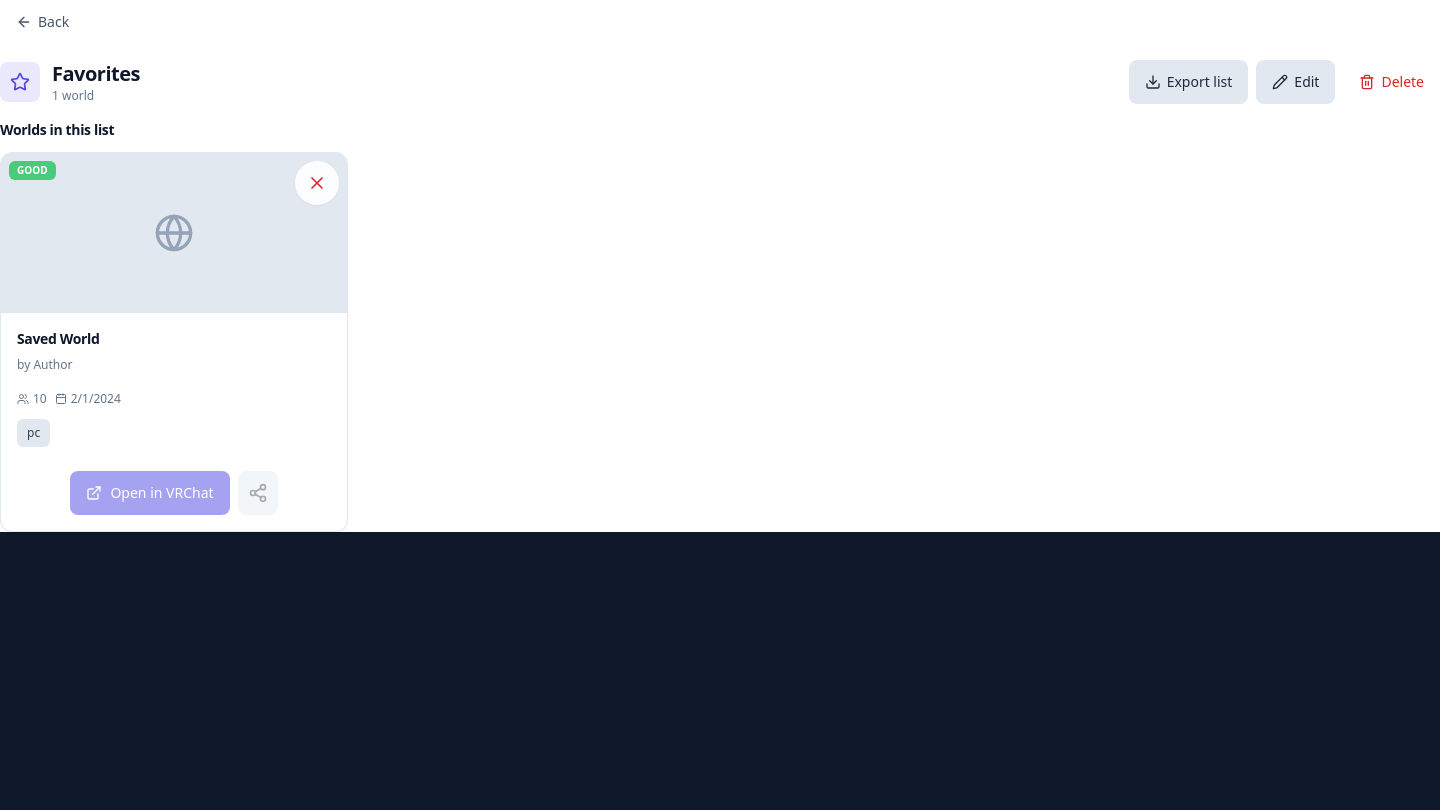
Test: ListDetailPage › removes a world from the list when the remove button is clicked
The width and height of the screenshot is (1440, 810).
Check: the heading "Saved World" is shown, box [17,329,100,348]
Click the button named "remove world from list" at coordinates (317, 183), box [295,161,339,205]
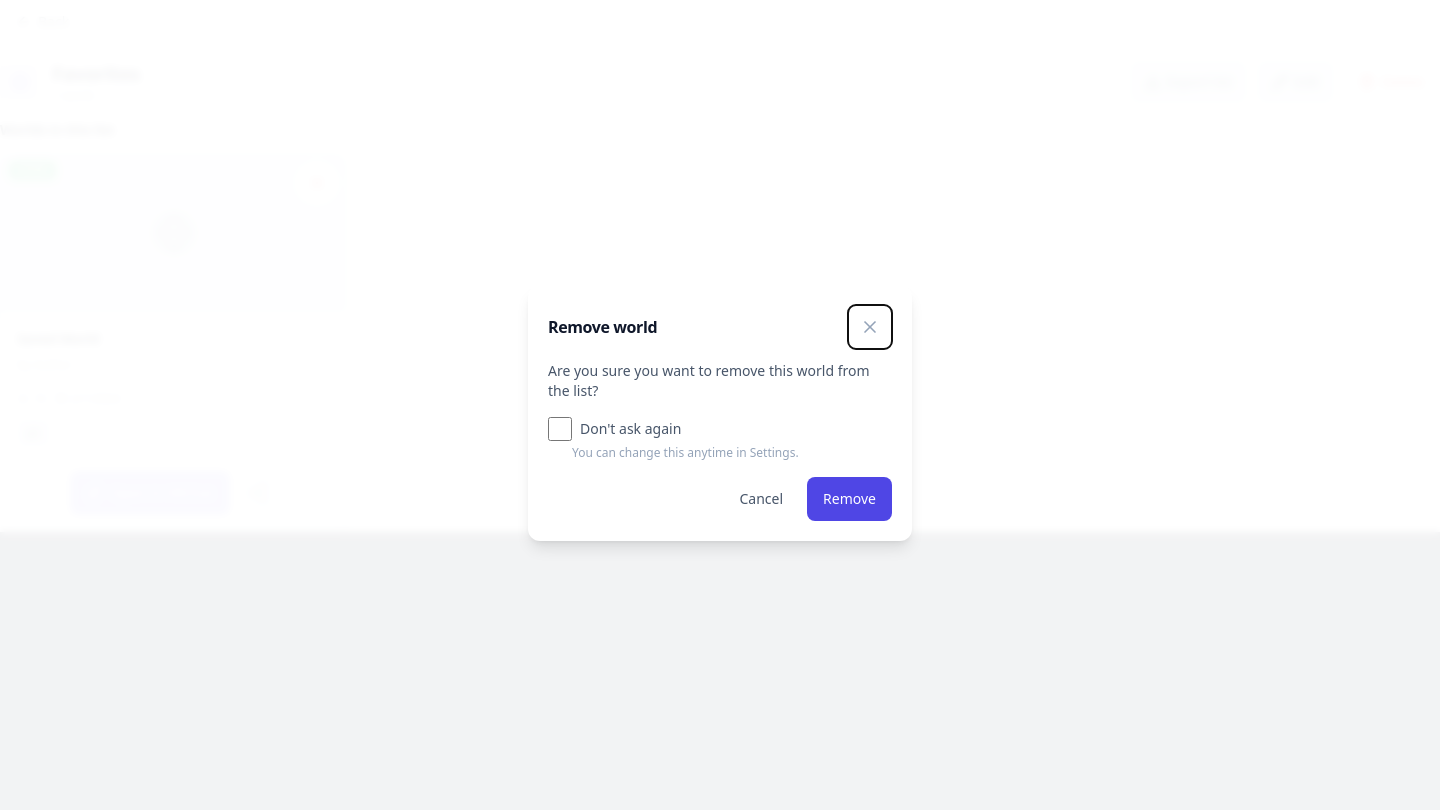
Check: the heading "Remove world" is shown, box [548,315,657,339]
Click the button "Remove" at coordinates (850, 499), box [807,477,892,521]
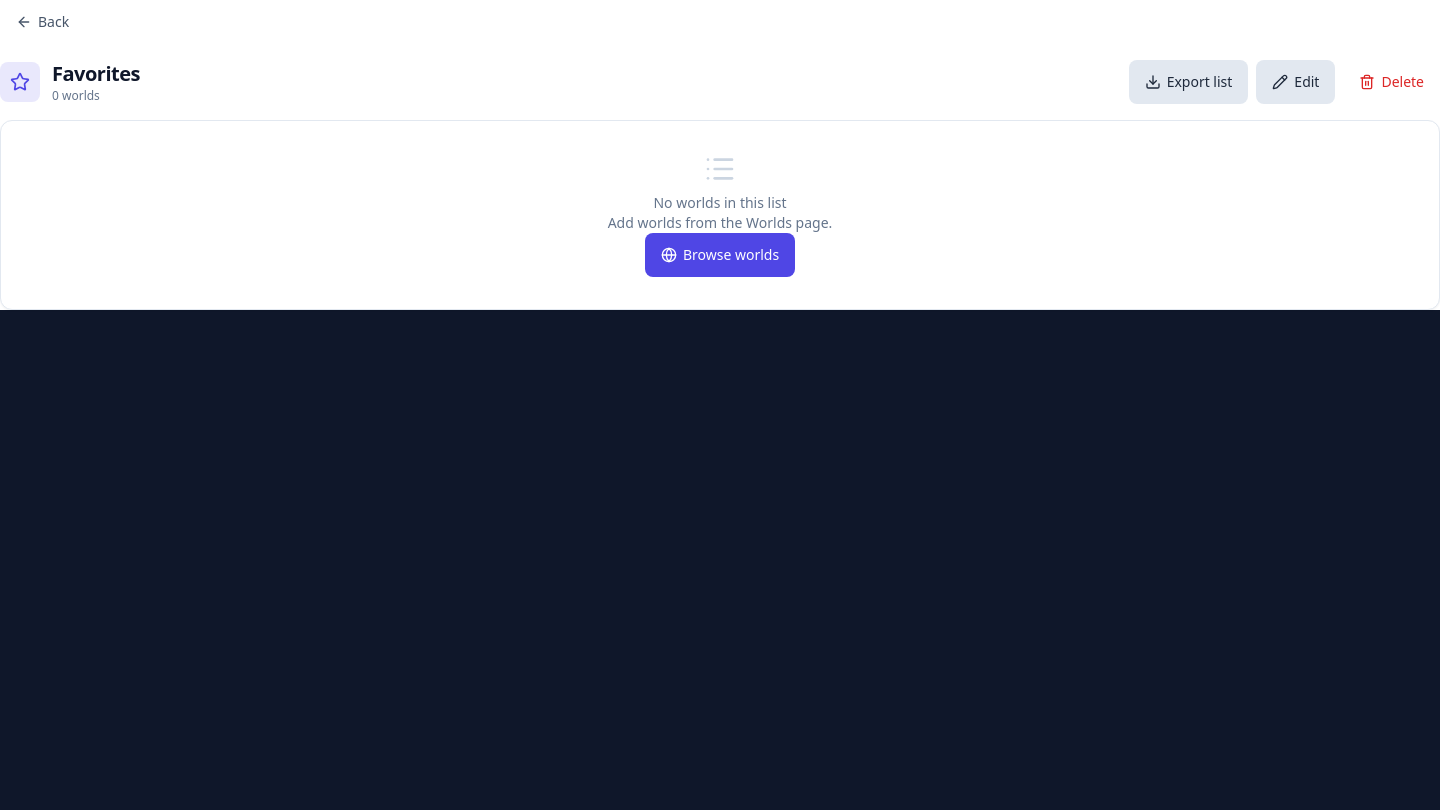
Check: the heading "Saved World" is gone
